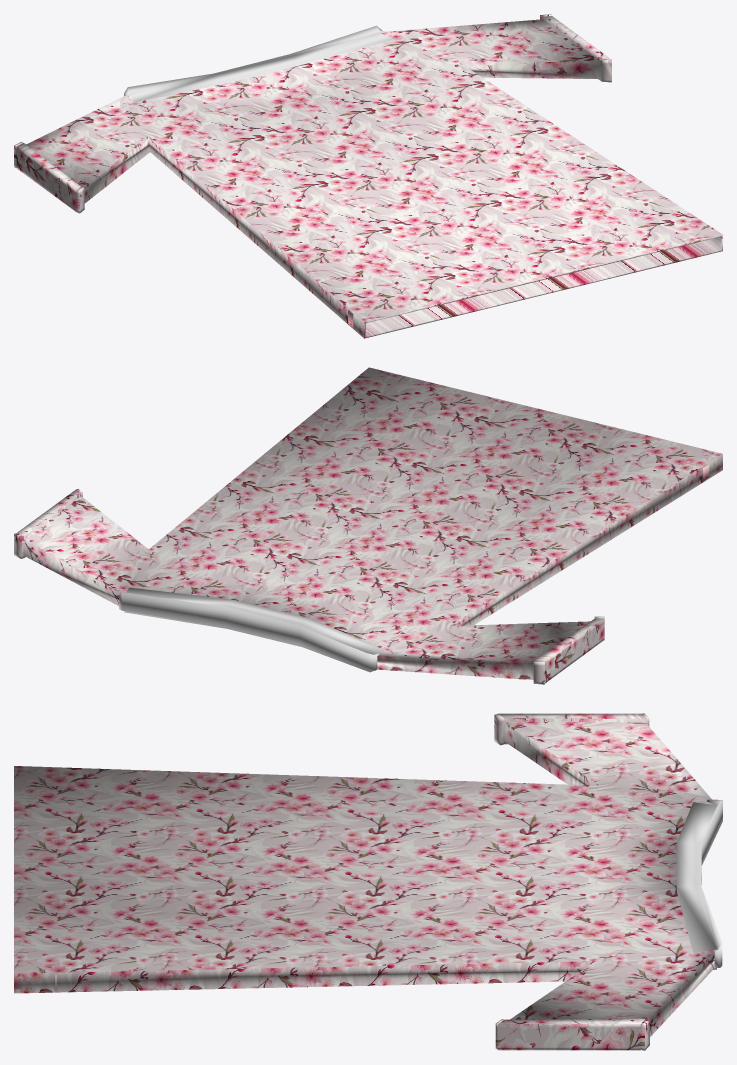
The model's file is shirt7.fbx.
The picture shows the model from 3 angles, top to bottom: view 1: azimuth 30°, elevation 25°; view 2: azimuth 150°, elevation 25°; view 3: azimuth 270°, elevation 25°; orthographic projection. The views are drawn at different scales.
Visible parts, largest first — view 1: shirt7; view 2: shirt7; view 3: shirt7.
Boxes of the visible parts, bbox=[...] form: shirt7: bbox=[14, 14, 722, 338]; shirt7: bbox=[14, 367, 722, 684]; shirt7: bbox=[14, 713, 722, 1050].
Size of the model in its own units: 0.678 by 0.0286 by 0.6519.
2 materials, 1 textured.
